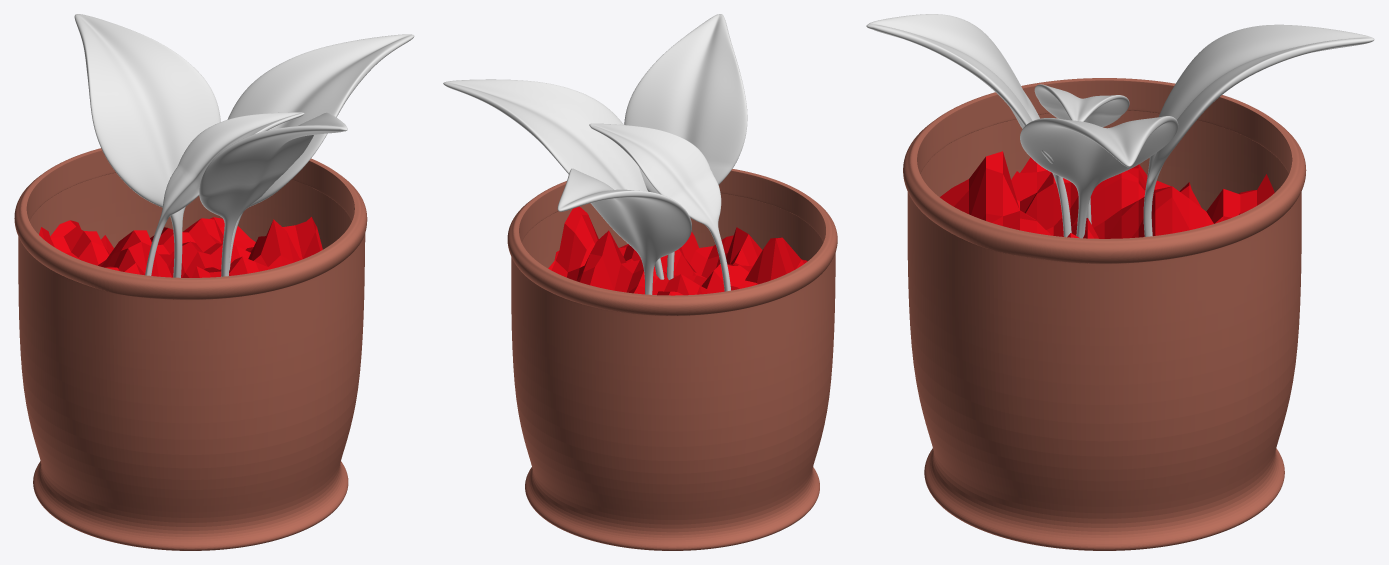
File: FlowerPot.fbx
The picture shows the model from 3 angles, left to right: view 1: azimuth 30°, elevation 25°; view 2: azimuth 150°, elevation 25°; view 3: azimuth 270°, elevation 25°; orthographic projection. The views are drawn at different scales.
Visible parts, largest first — view 1: FlowerPot, Plant.000, DirtGround, Plant.001, Plant.002, Plant.003; view 2: FlowerPot, Plant.002, DirtGround, Plant.001, Plant.003, Plant.000; view 3: FlowerPot, DirtGround, Plant.000, Plant.001, Plant.002, Plant.003.
Part boxes in pixels (x1,y1,x2,y2): FlowerPot: [14, 148, 367, 550]; Plant.000: [74, 14, 220, 277]; DirtGround: [39, 217, 322, 277]; Plant.001: [227, 34, 414, 269]; Plant.002: [199, 112, 347, 276]; Plant.003: [145, 112, 304, 275]; FlowerPot: [507, 169, 837, 550]; Plant.002: [624, 14, 747, 279]; DirtGround: [548, 206, 807, 295]; Plant.001: [443, 79, 664, 279]; Plant.003: [589, 123, 730, 291]; Plant.000: [557, 168, 691, 294]; FlowerPot: [903, 78, 1306, 550]; DirtGround: [940, 151, 1274, 238]; Plant.000: [1143, 24, 1374, 236]; Plant.001: [1020, 116, 1178, 238]; Plant.002: [866, 14, 1071, 237]; Plant.003: [1034, 84, 1129, 224].
Size of the model in its own units: 257 by 267 by 256.
